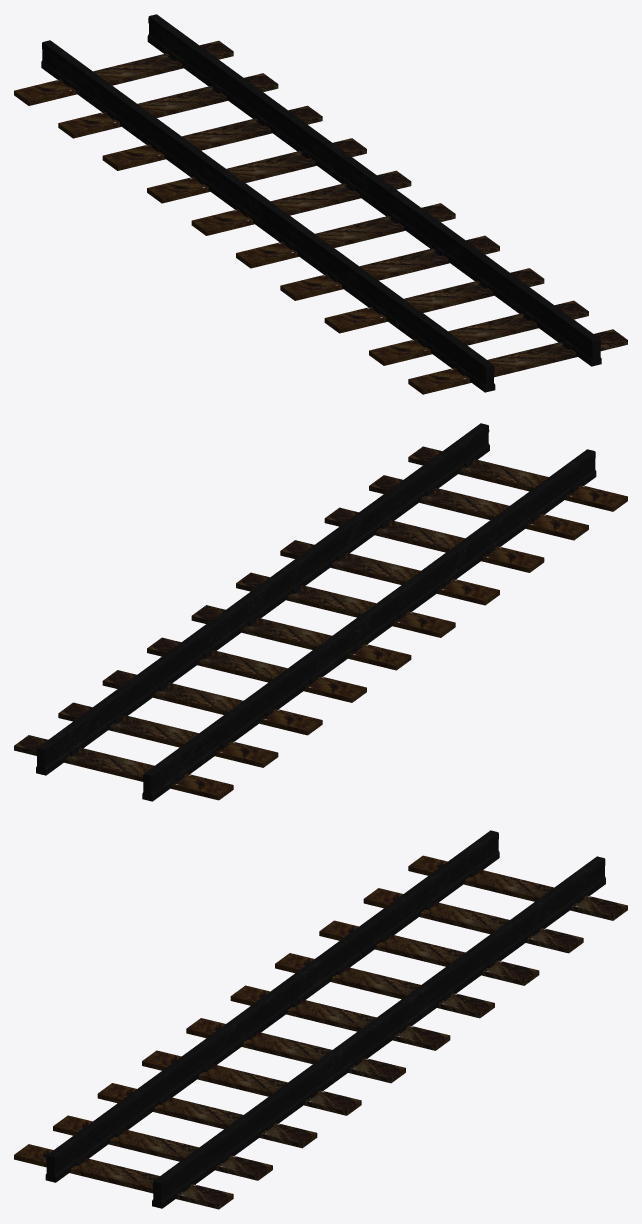
The model's file is Ash_Mine_Track.glb.
3 views of the same model, one above another, from view 1: azimuth 30°, elevation 25°; view 2: azimuth 150°, elevation 25°; view 3: azimuth 330°, elevation 25° (orthographic).
Visible parts, largest first — view 1: Straight_Track_Digital_Goblin; view 2: Straight_Track_Digital_Goblin; view 3: Straight_Track_Digital_Goblin.
Boxes of the visible parts, box(x1,y1,x2,y2) form: Straight_Track_Digital_Goblin: box(14, 14, 627, 394); Straight_Track_Digital_Goblin: box(14, 423, 627, 801); Straight_Track_Digital_Goblin: box(14, 830, 627, 1209).
Bounding box in the file's own units: 40 × 5.12 × 150.
1 material, 1 textured.
